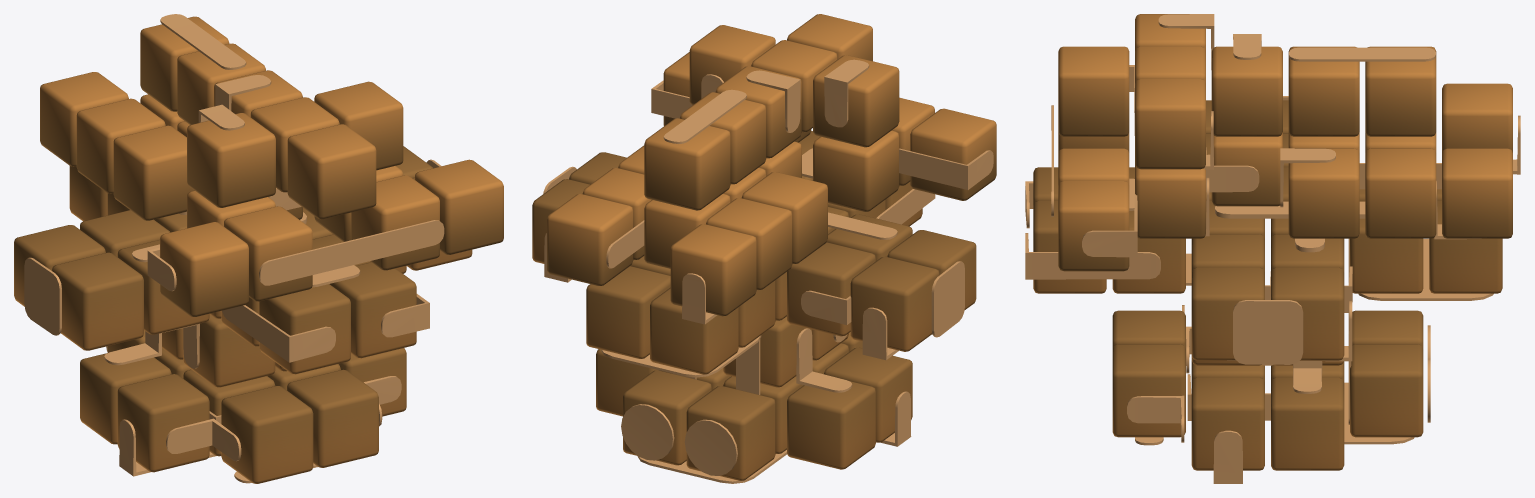
Rendered from level_144.fbx.
The picture shows the model from 3 angles, left to right: view 1: azimuth 30°, elevation 25°; view 2: azimuth 150°, elevation 25°; view 3: azimuth 270°, elevation 25°; orthographic projection. The views are drawn at different scales.
Parts seen in each view (by area): view 1: Cube_L1_4.010, Cube_L1_8.027, Cube_L1_8.005, Cube_L1_4.012, Cube_L1_4.015, Cube_L1_8.025, Cube_L1_4.033, Cube_L1_8.017, Cube_L1_4.016, Cube_L1_8.022, Cube_L1_8.019, Link_24 (+37 smaller); view 2: Cube_L1_8.051, Cube_L1_4.005, Cube_L1_4.040, Cube_L1_4.039, Cube_L1_8.038, Cube_L1_8.020, Cube_L1_4.013, Cube_L1_4.012, Cube_L1_8.023, Cube_L1_8.033, Cube_L1_4.015, Cube_L1_8.037 (+45 smaller); view 3: Cube_L1_8.031, Cube_L1_4.010, Cube_L1_4.038, Cube_L1_8.047, Cube_L1_4.017, Cube_L1_4.040, Cube_L1_4.004, Cube_L1_4.037, Cube_L1_8.013, Cube_L1_4.005, Cube_L1_4, Cube_L1_8.025 (+38 smaller).
Boxes of the visible parts, x1,y1,x2,y2 form: Cube_L1_4.010: [287, 124, 376, 219]; Cube_L1_8.027: [221, 386, 313, 483]; Cube_L1_8.005: [52, 252, 143, 350]; Cube_L1_4.012: [187, 113, 275, 207]; Cube_L1_4.015: [160, 222, 248, 316]; Cube_L1_8.025: [287, 369, 378, 467]; Cube_L1_4.033: [113, 125, 194, 220]; Cube_L1_8.017: [117, 374, 209, 472]; Cube_L1_4.016: [415, 159, 503, 254]; Cube_L1_8.022: [259, 284, 350, 374]; Cube_L1_8.019: [330, 262, 416, 358]; Link_24: [259, 220, 444, 285]; Cube_L1_8.051: [787, 381, 875, 469]; Cube_L1_4.005: [644, 118, 730, 210]; Cube_L1_4.040: [547, 194, 633, 285]; Cube_L1_4.039: [670, 224, 756, 316]; Cube_L1_8.038: [850, 256, 939, 351]; Cube_L1_8.020: [586, 266, 670, 358]; Cube_L1_4.013: [813, 130, 899, 211]; Cube_L1_4.012: [813, 55, 899, 147]; Cube_L1_8.023: [650, 287, 738, 374]; Cube_L1_8.033: [686, 386, 775, 480]; Cube_L1_4.015: [910, 108, 996, 200]; Cube_L1_8.037: [787, 242, 875, 336]; Cube_L1_8.031: [1350, 344, 1423, 437]; Cube_L1_4.010: [1058, 46, 1129, 136]; Cube_L1_4.038: [1365, 148, 1436, 238]; Cube_L1_8.047: [1271, 377, 1344, 470]; Cube_L1_4.017: [1135, 79, 1205, 169]; Cube_L1_4.040: [1442, 148, 1512, 238]; Cube_L1_4.004: [1211, 46, 1282, 136]; Cube_L1_4.037: [1288, 148, 1359, 238]; Cube_L1_8.013: [1191, 377, 1264, 470]; Cube_L1_4.005: [1365, 46, 1436, 136]; Cube_L1_4: [1288, 46, 1359, 136]; Cube_L1_8.025: [1112, 344, 1185, 437].
Bounding box in the file's own units: 13.77 × 11.41 × 14.03.
